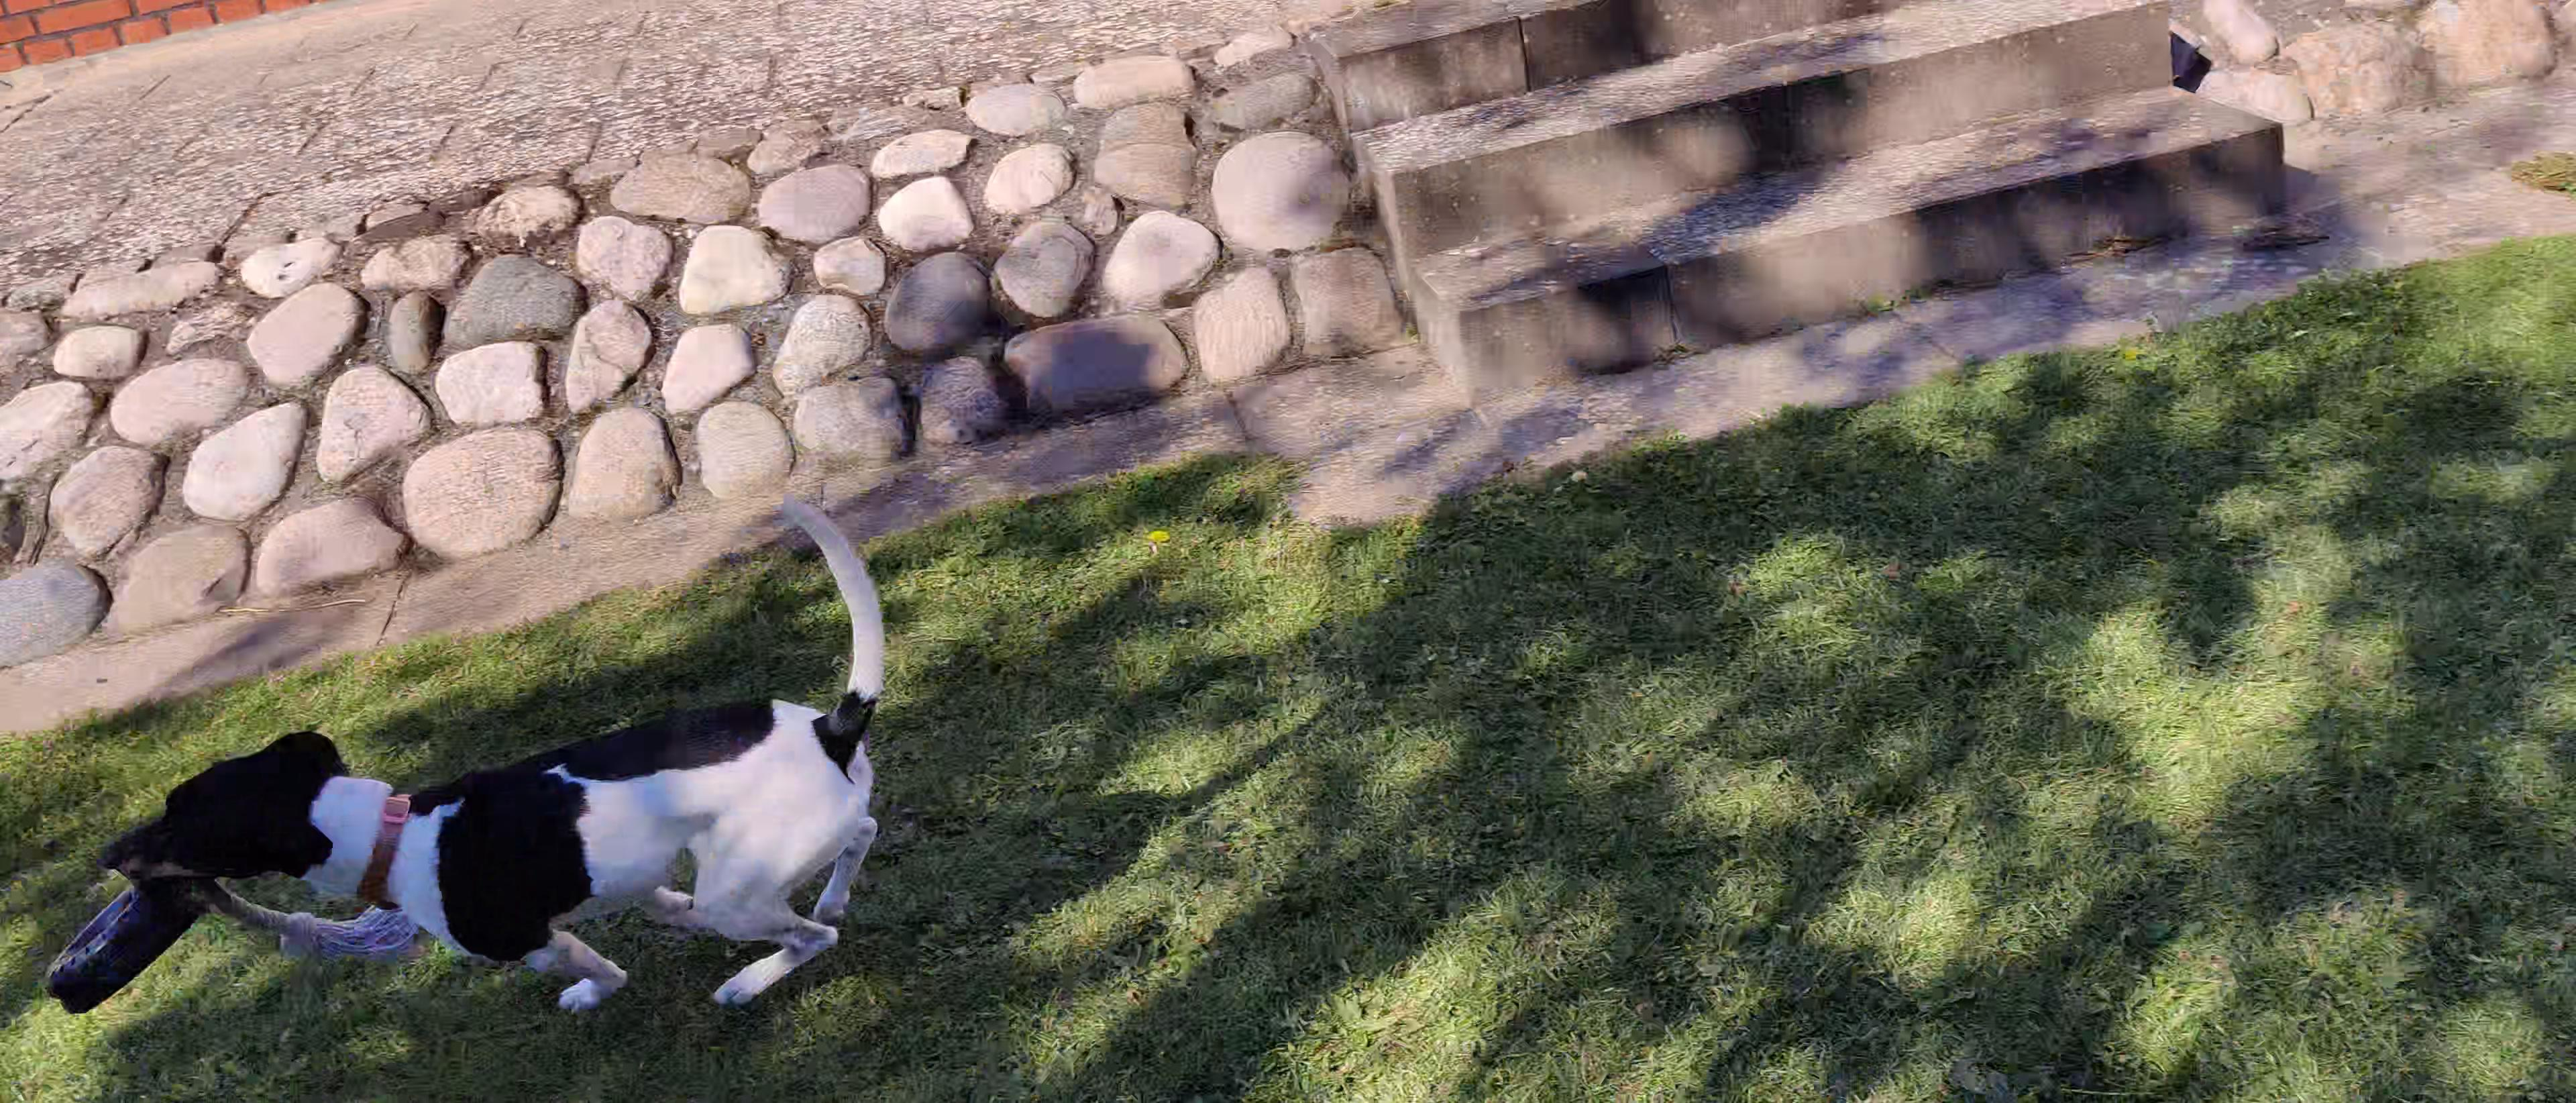Dog: (94, 477, 904, 1014)
